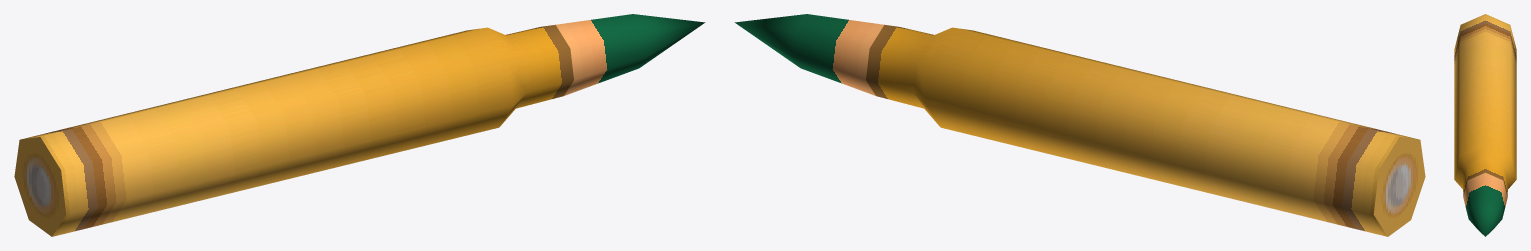
Rendered from 3006Round.fbx.
3 views of the same model, side by side, from view 1: azimuth 30°, elevation 25°; view 2: azimuth 150°, elevation 25°; view 3: azimuth 270°, elevation 25° (orthographic). The views are drawn at different scales.
Parts seen in each view (by area): view 1: 3006ammo.002; view 2: 3006ammo.002; view 3: 3006ammo.002.
Part boxes in pixels (x1=…): 3006ammo.002: x1=14, y1=14, x2=705, y2=236; 3006ammo.002: x1=734, y1=14, x2=1425, y2=236; 3006ammo.002: x1=1454, y1=14, x2=1516, y2=236.
Size of the model in its own units: 0.1618 by 0.0213 by 0.0219.
